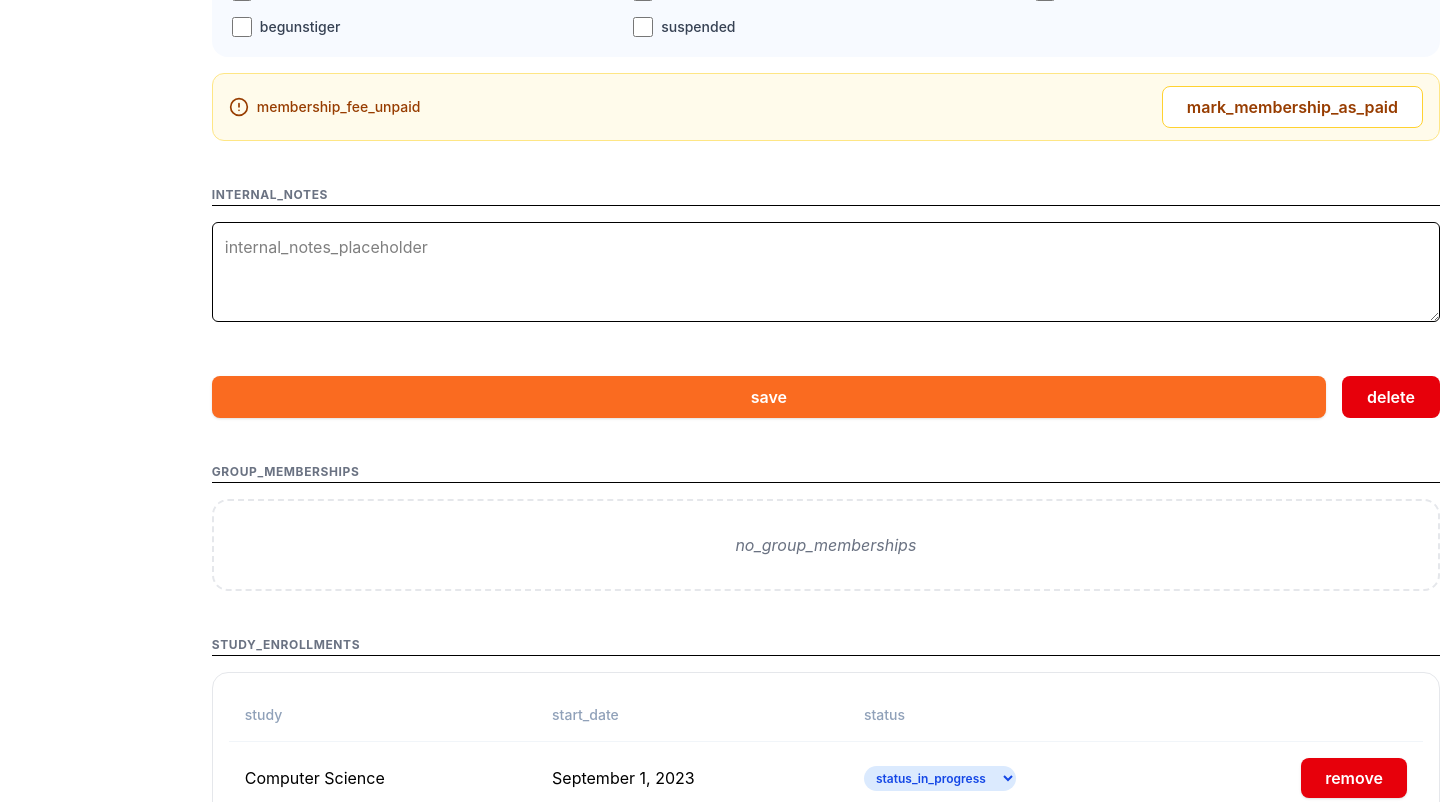
Scenario: EditMemberPage › closes the delete modal on cancel
(page scrolled)
Click the button "delete" at (1391, 397), box [1342, 376, 1439, 418]
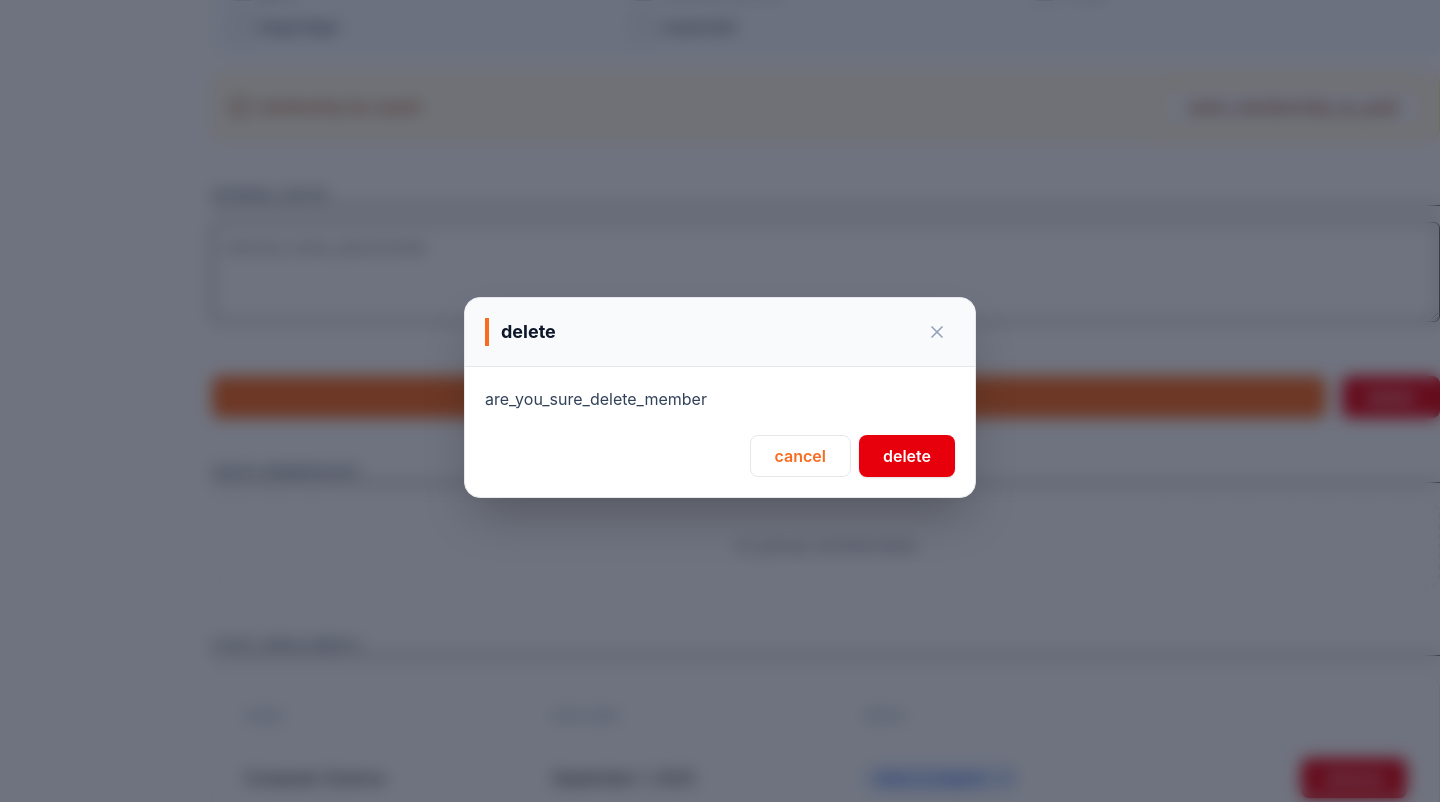
Click the button "cancel" at (800, 456), box [750, 434, 851, 476]
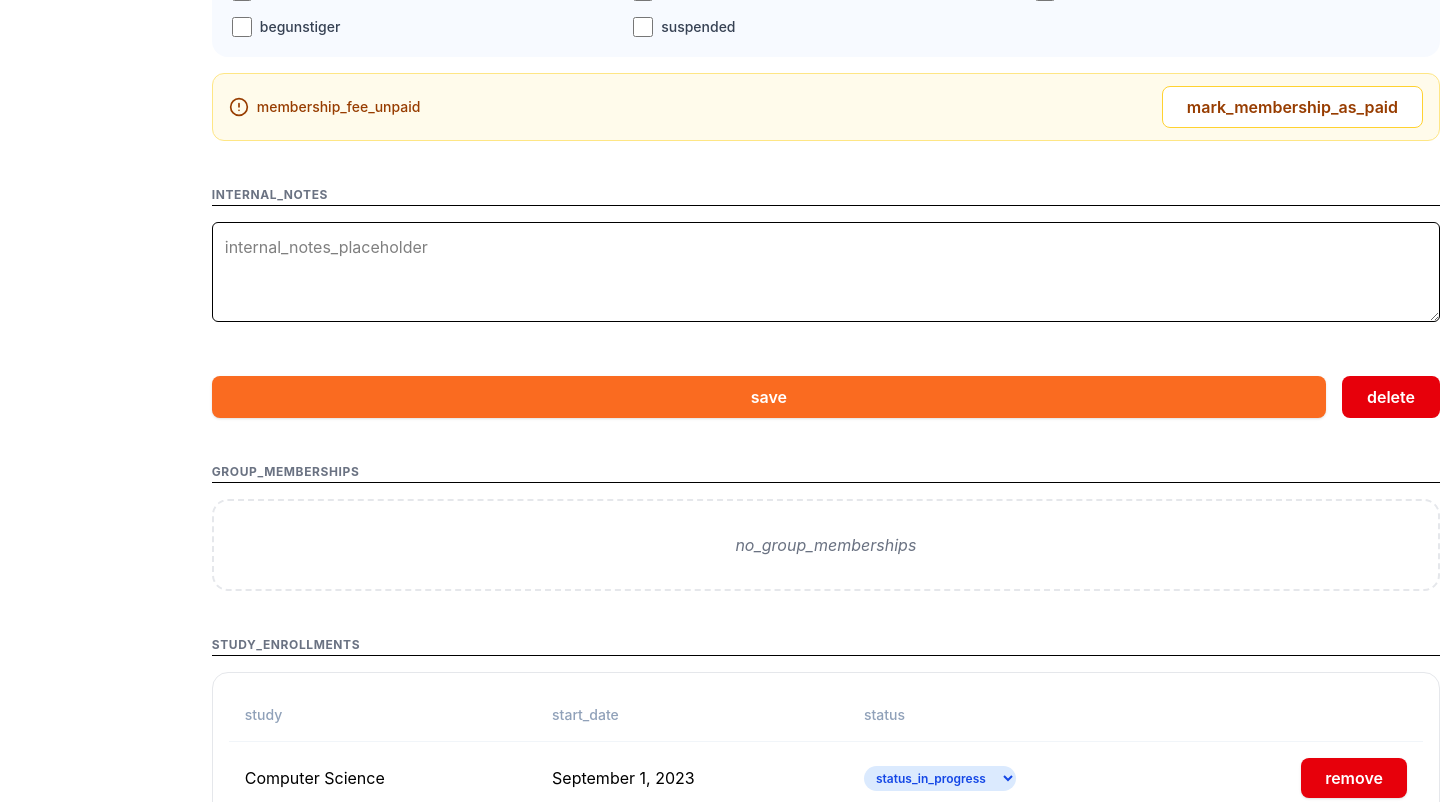
Expected: the text "are_you_sure_delete_member" is gone
